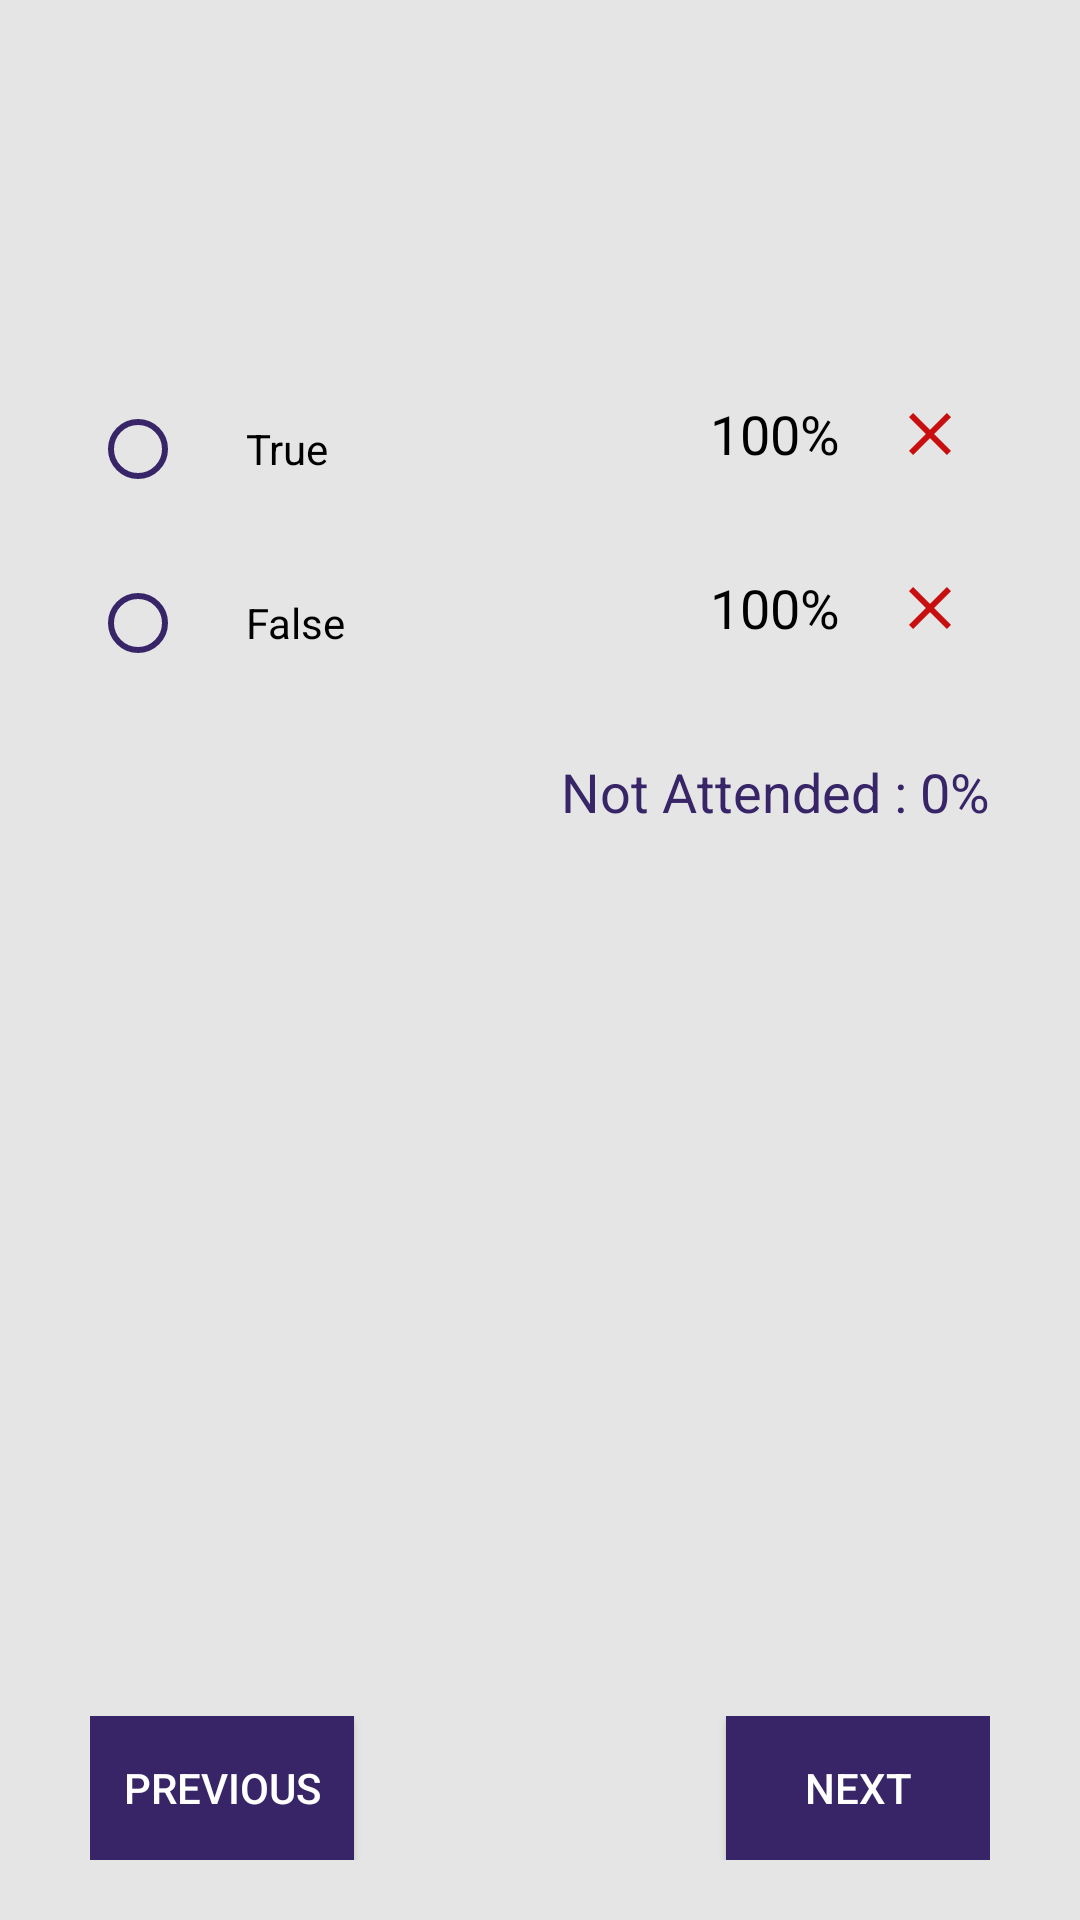

Where icons sit on this 1080 x 1920 app screen, as region(x1, y1, x2, y2):
close: region(909, 413, 951, 455), region(909, 587, 951, 629)
